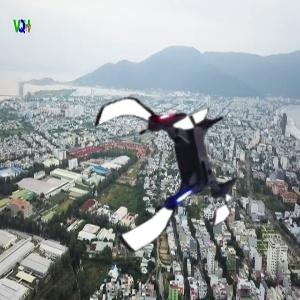drone: (80, 80, 249, 249)
